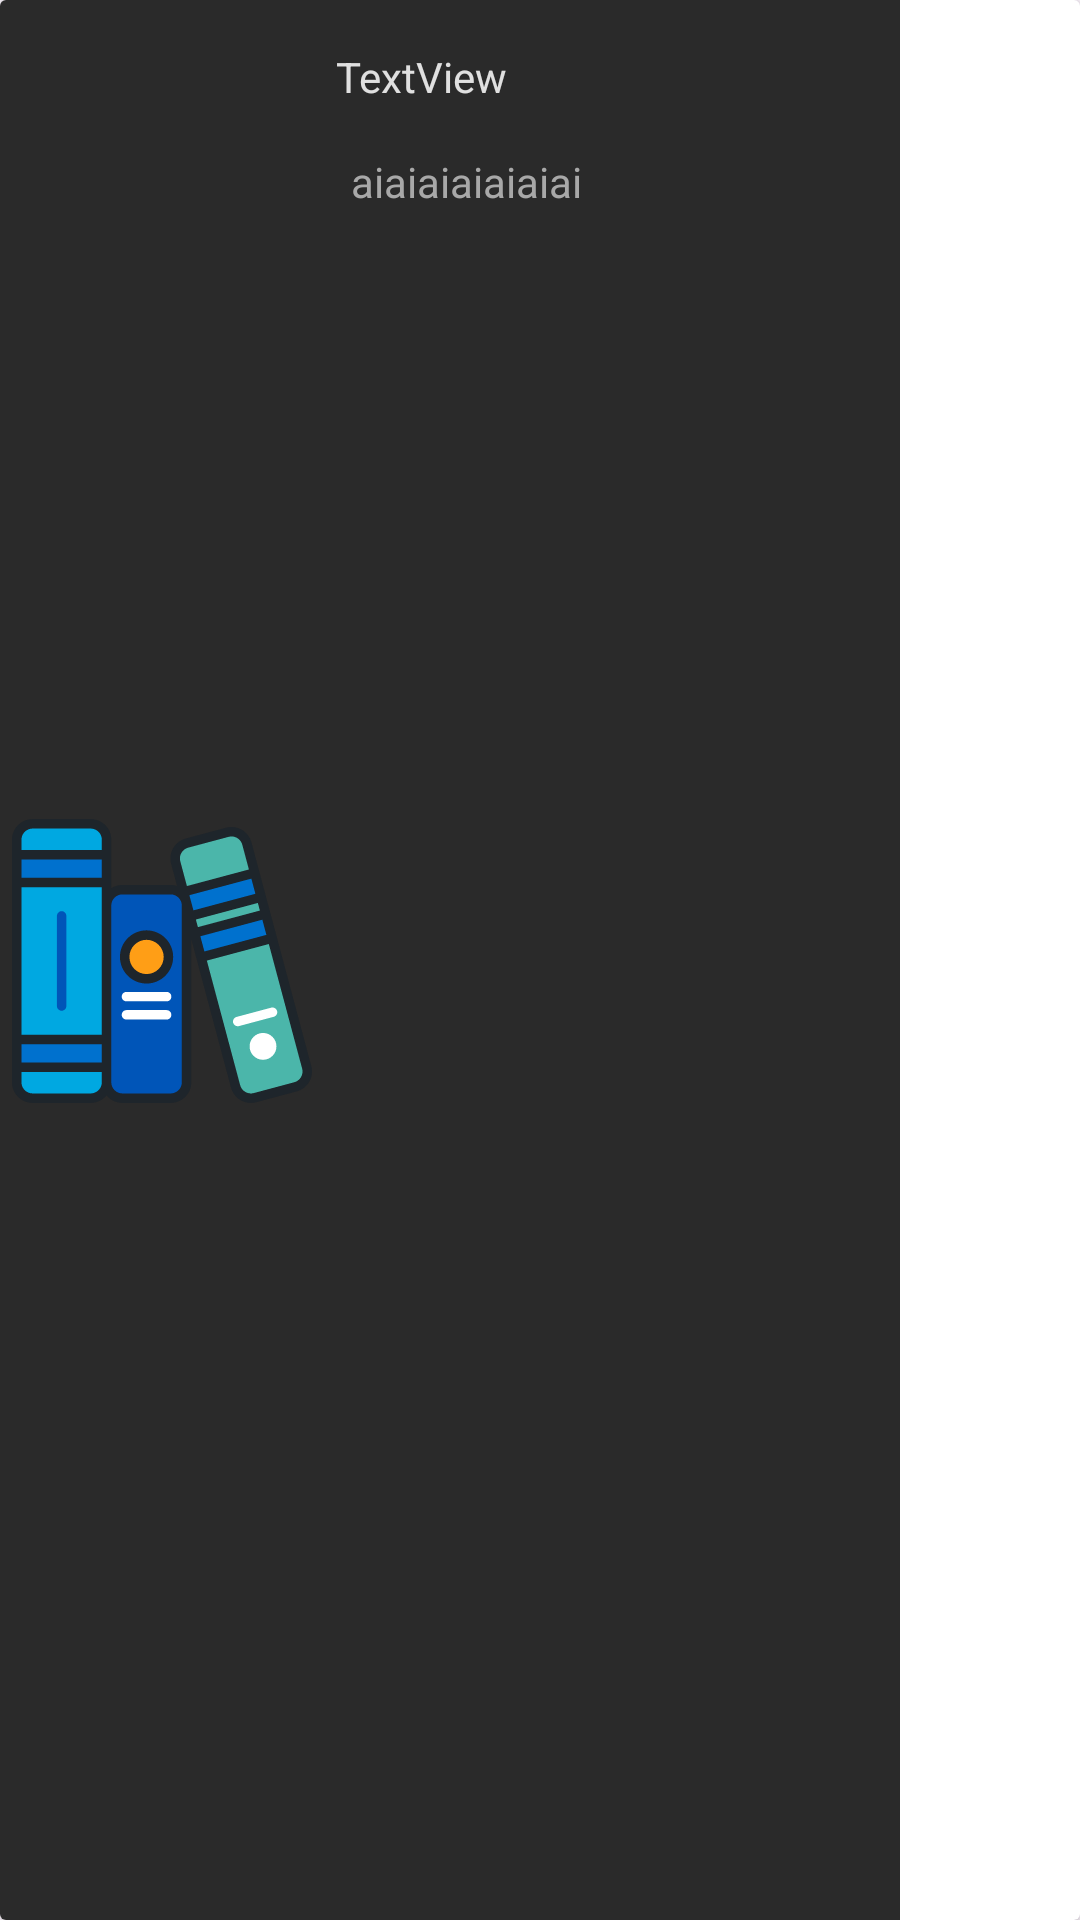

Icons on this 1080×1920 Android screen, each with the point to tap as point (x, y):
books book: point (162, 961)
